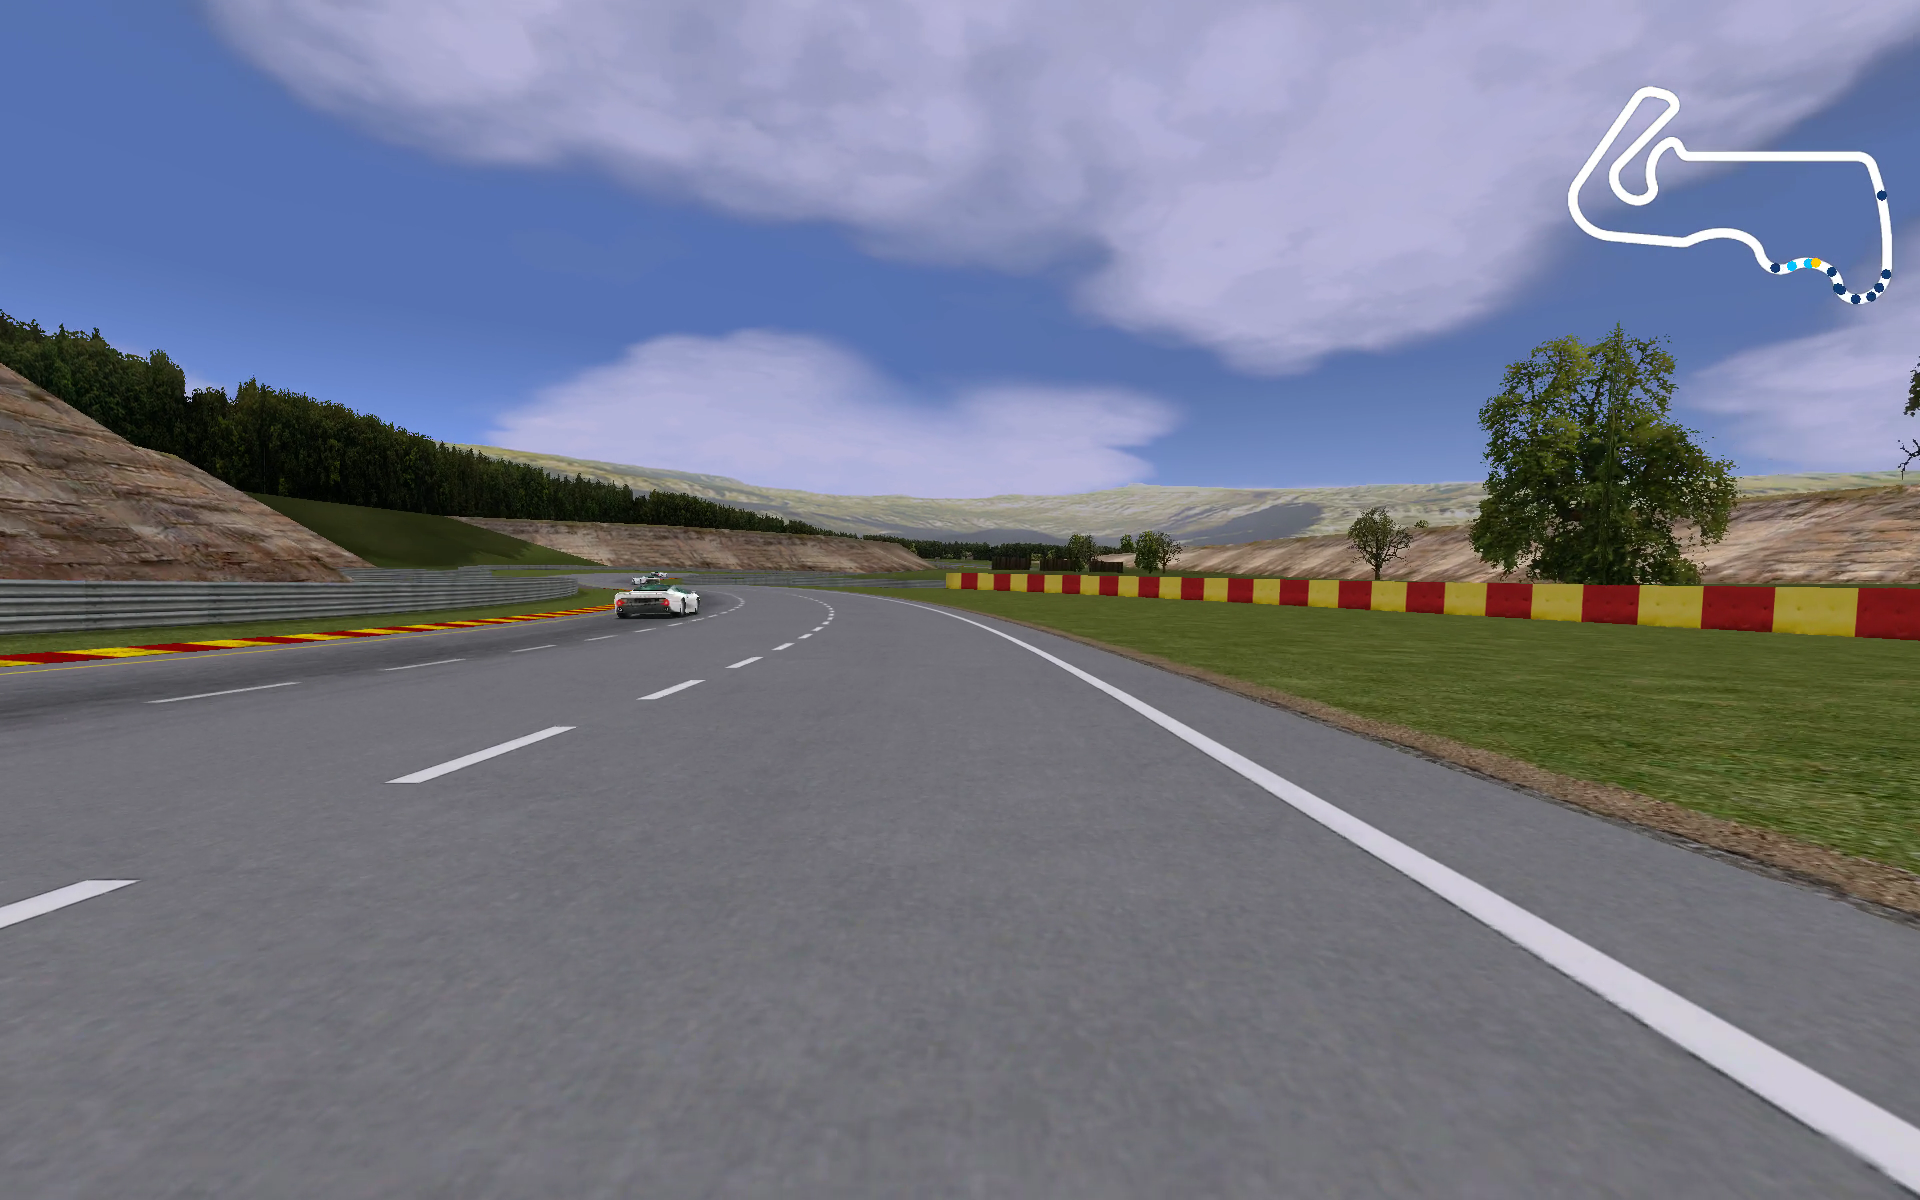car: (615, 582, 706, 619)
